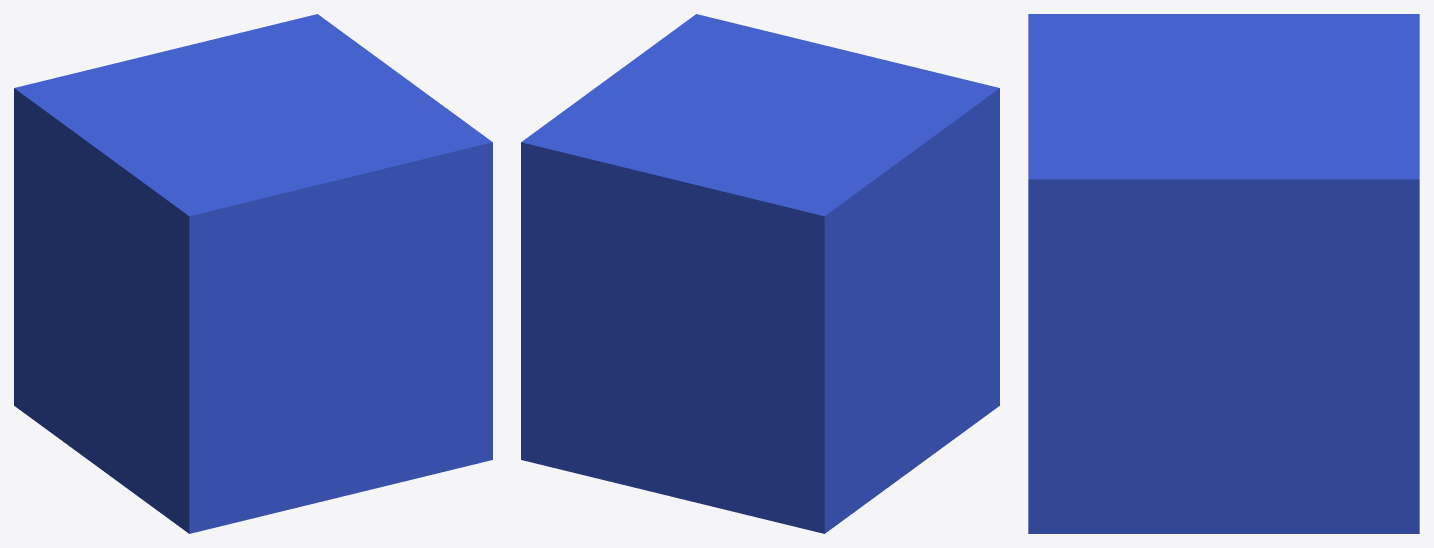
File: UnityVertDamage.fbx
3 renders of one model, left to right at view 1: azimuth 30°, elevation 25°; view 2: azimuth 150°, elevation 25°; view 3: azimuth 270°, elevation 25°, orthographic. The views are drawn at different scales.
Visible parts, largest first — view 1: Cube; view 2: Cube; view 3: Cube.
Boxes of the visible parts, <box> form: Cube: <box>14,14,492,533</box>; Cube: <box>521,14,999,533</box>; Cube: <box>1028,14,1419,533</box>.
Bounding box in the file's own units: 791 × 791 × 791.
